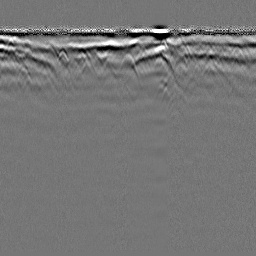cavity: (117, 51, 140, 78)
